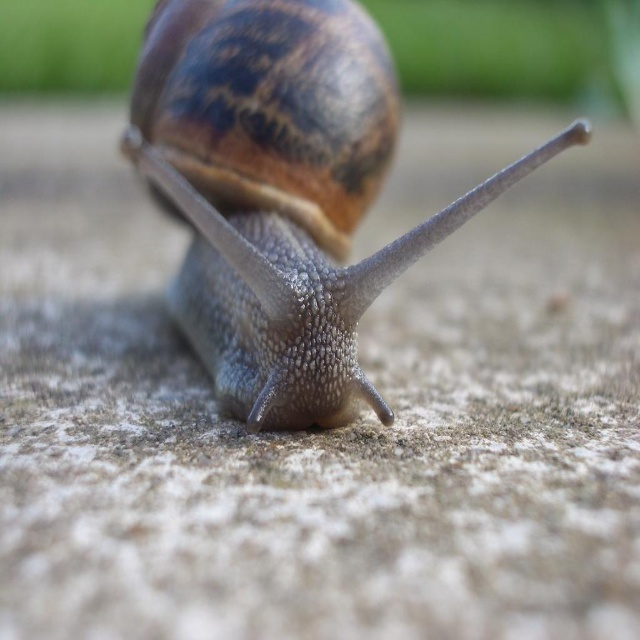Snail: (114, 0, 598, 443)
